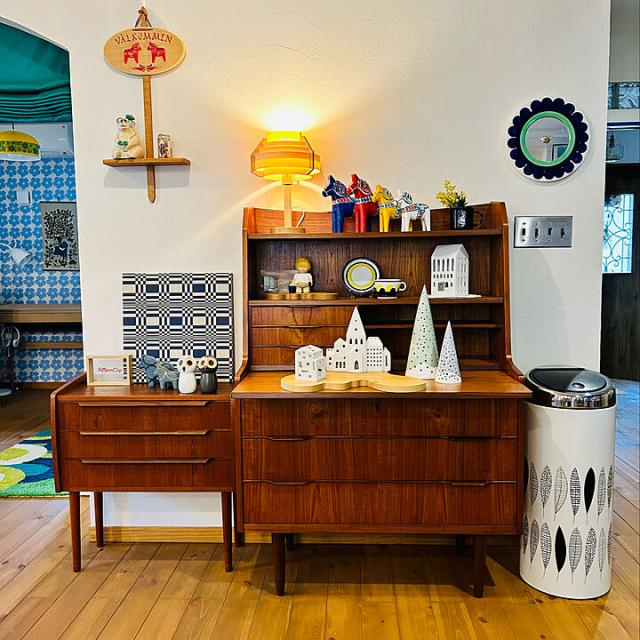vintage shelf: (235, 203, 530, 602), (48, 366, 231, 570)
